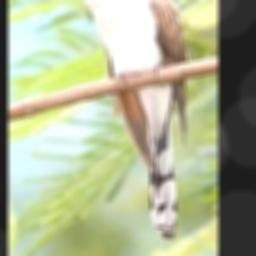Cuckoo: (63, 0, 189, 240)
